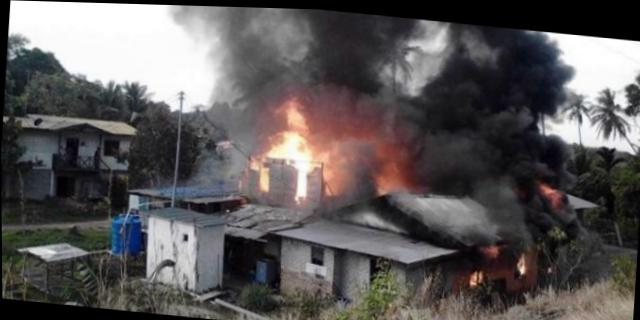fire: (266, 127, 316, 158), (288, 99, 313, 126), (297, 158, 312, 192), (516, 247, 528, 271), (470, 264, 484, 282)
